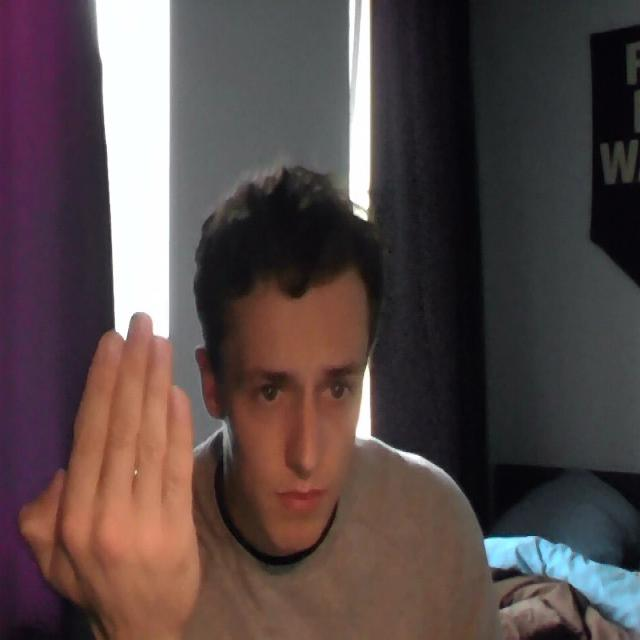forward: (16, 295, 208, 630)
